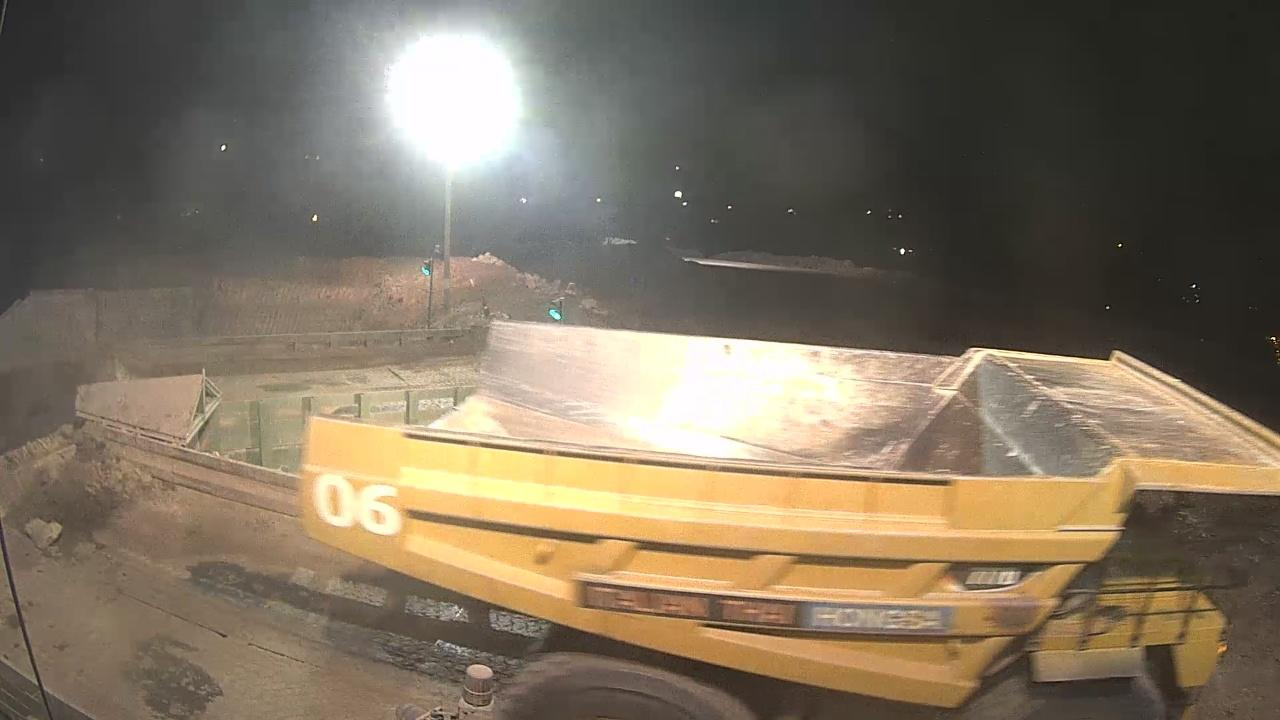company: (564, 577, 960, 644)
empty_load: (481, 326, 1140, 514)
mining_truck: (291, 270, 1280, 720)
tail_number: (313, 471, 408, 539)
truck_size: (954, 549, 1021, 592)
